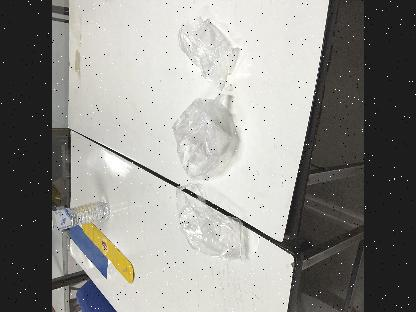Others: (171, 90, 243, 186), (176, 181, 249, 271), (169, 8, 242, 96)
